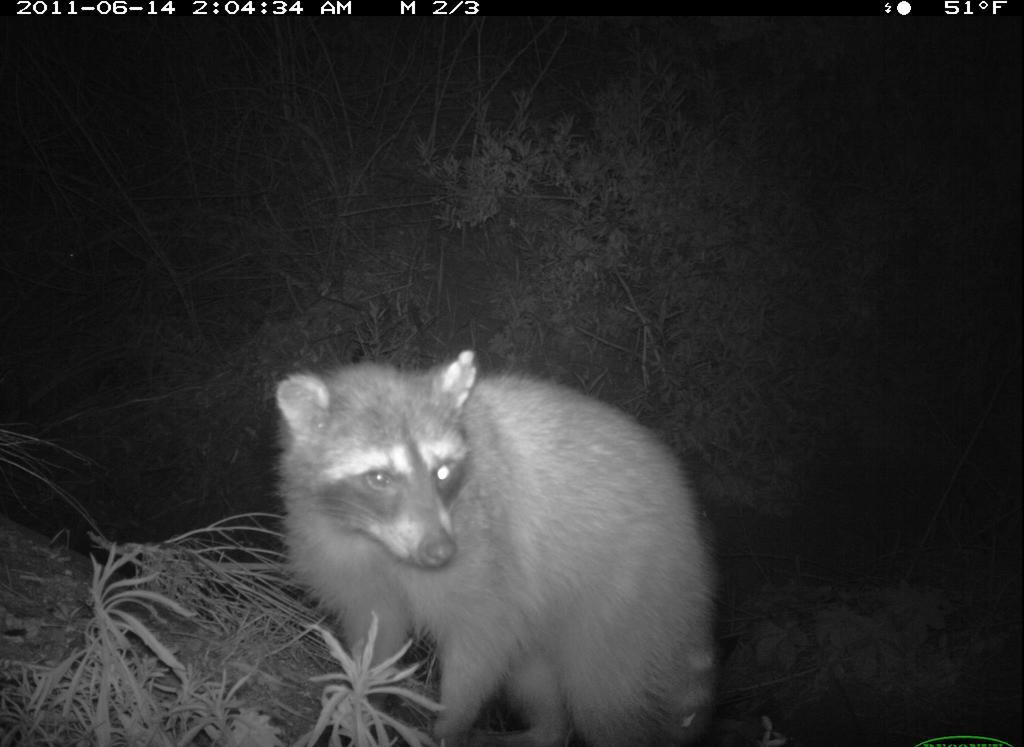raccoon: (268, 351, 730, 743)
